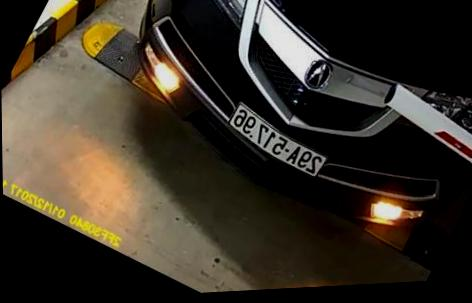License_Plate: (229, 93, 329, 192)
